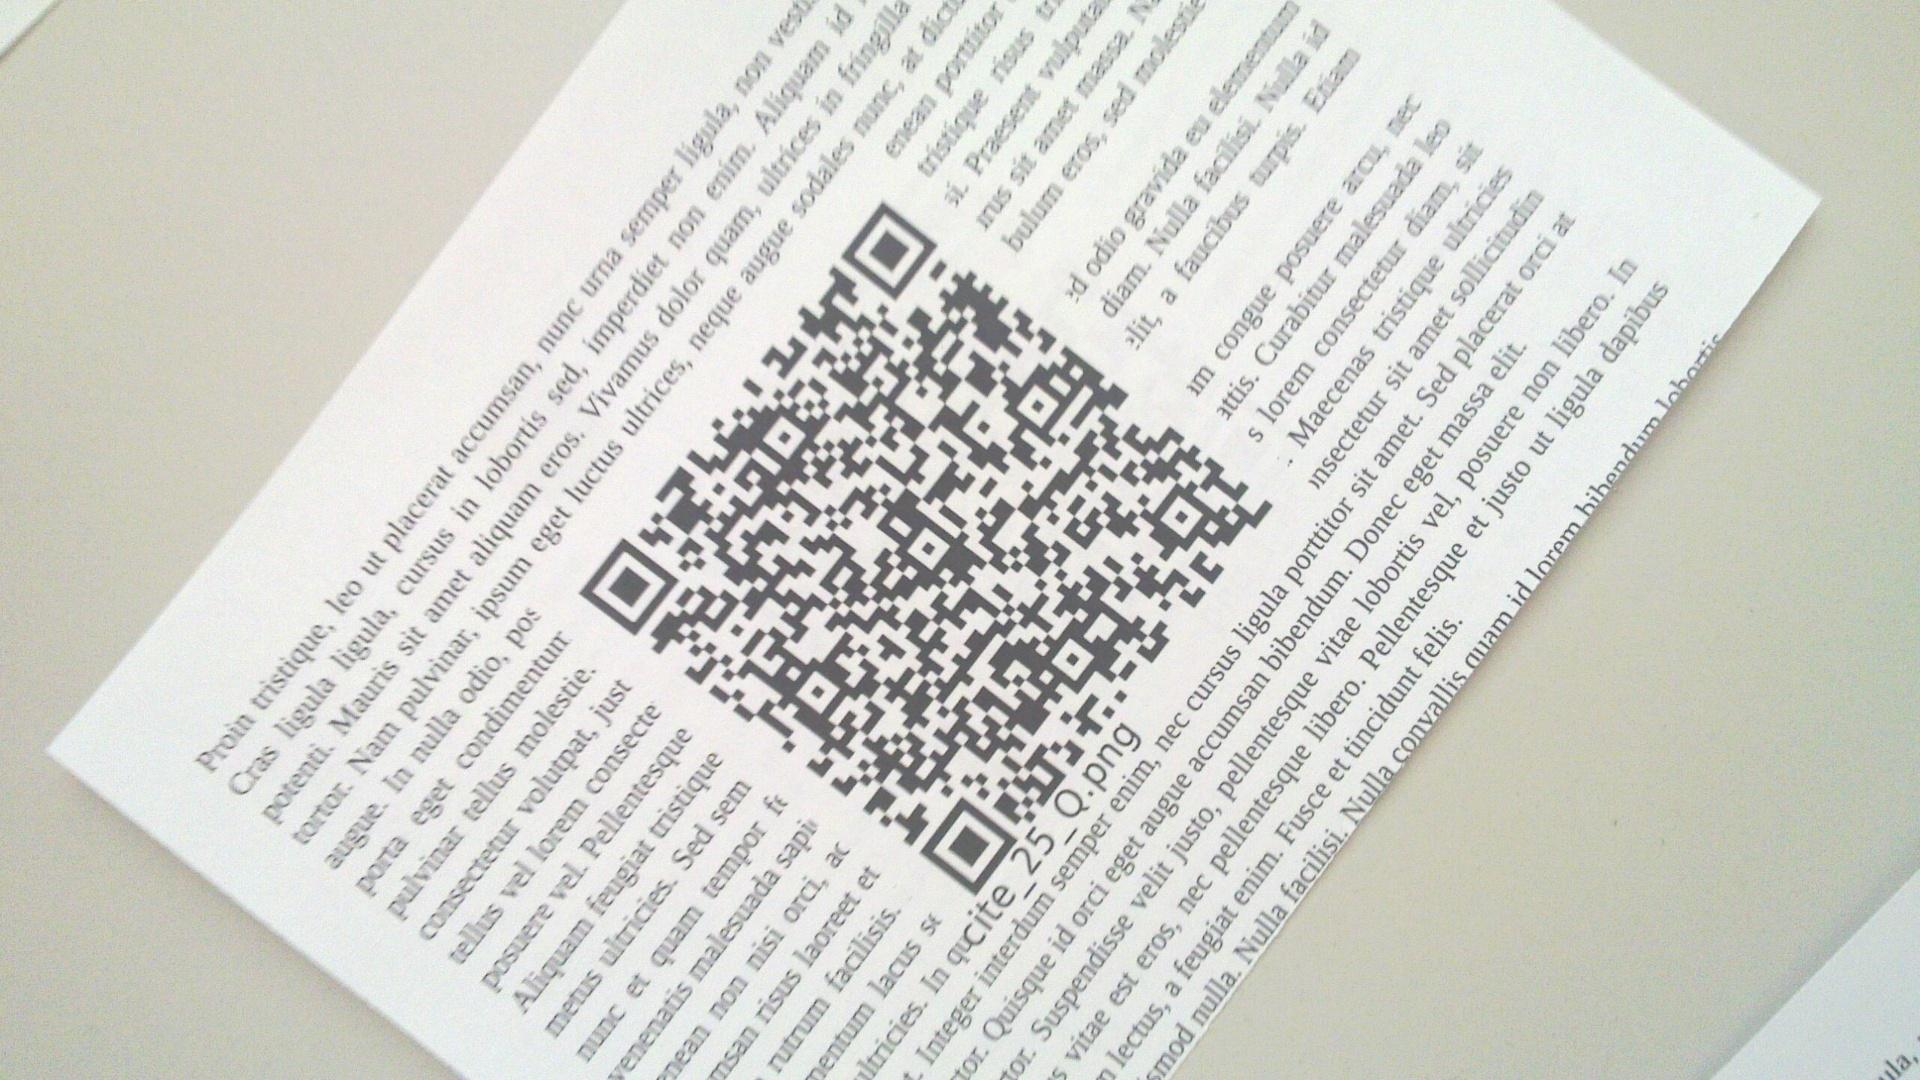Finder pattern: (839, 200, 938, 298), (920, 798, 1015, 893), (582, 542, 673, 632)
